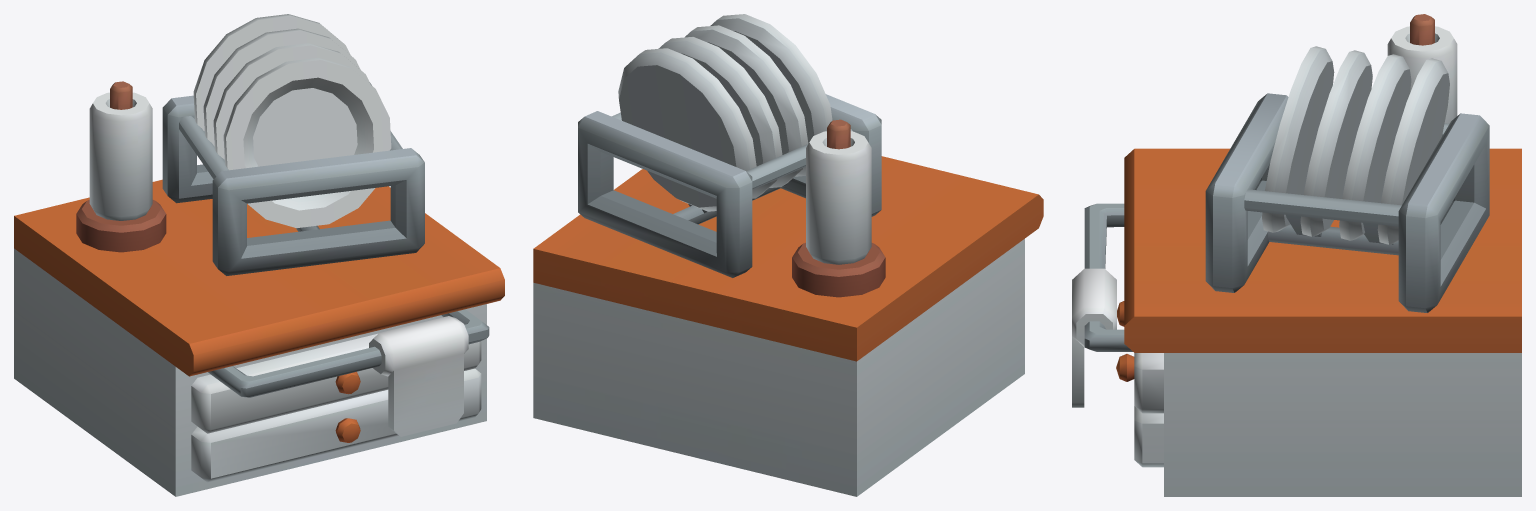
File: kitchencounter-straight-a-decorated.glb
3 renders of one model, left to right at view 1: azimuth 30°, elevation 25°; view 2: azimuth 150°, elevation 25°; view 3: azimuth 270°, elevation 25°, orthographic. The views are drawn at different scales.
Visible parts, largest first — view 1: kitchencounter_straight_A_decorated; view 2: kitchencounter_straight_A_decorated; view 3: kitchencounter_straight_A_decorated.
Boxes of the visible parts, x1,y1,x2,y2 form: kitchencounter_straight_A_decorated: [14, 14, 504, 496]; kitchencounter_straight_A_decorated: [533, 14, 1043, 496]; kitchencounter_straight_A_decorated: [1072, 14, 1521, 496].
Bounding box in the file's own units: 2.01 × 2.1 × 2.26.
Materials: 1 (1 with a texture image).
